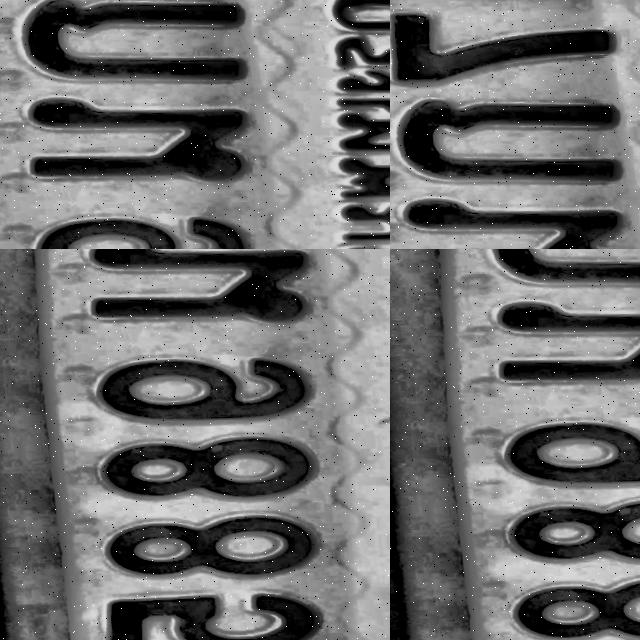license-plate: (390, 249, 640, 640), (258, 0, 374, 22)
